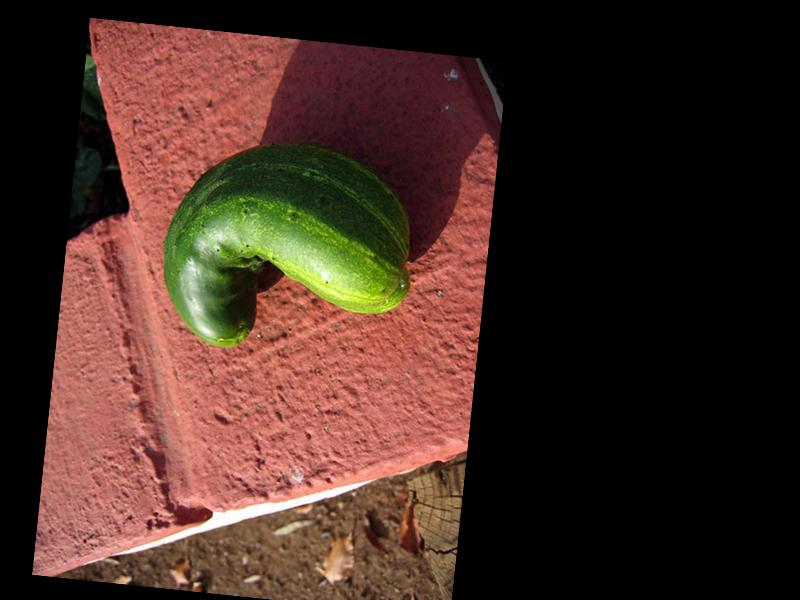Cucumber: (154, 131, 421, 367)
